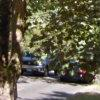Tree: (29, 3, 100, 68)
